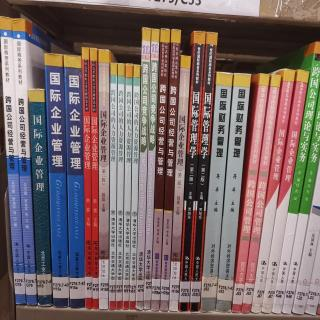book-spine: (256, 68, 311, 315), (271, 40, 320, 314), (248, 69, 297, 314), (239, 74, 281, 314), (230, 74, 271, 314), (213, 73, 252, 313), (175, 31, 206, 313), (199, 72, 233, 314), (189, 32, 217, 315), (0, 15, 26, 307), (12, 17, 37, 306), (148, 28, 172, 310), (43, 53, 69, 308), (167, 54, 192, 312), (160, 28, 180, 312), (63, 50, 85, 308), (29, 89, 53, 306), (134, 29, 151, 311), (143, 29, 159, 310), (79, 46, 93, 309), (96, 49, 110, 310), (120, 64, 134, 311), (113, 65, 126, 310), (88, 47, 99, 310), (108, 63, 117, 312)
